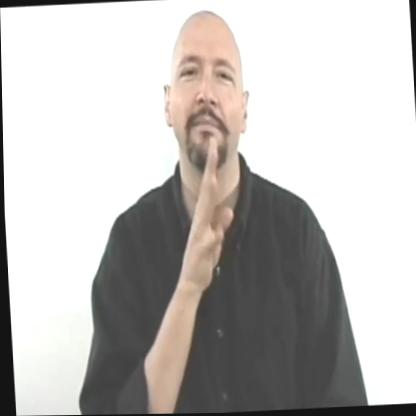Talk: (156, 0, 261, 301)
